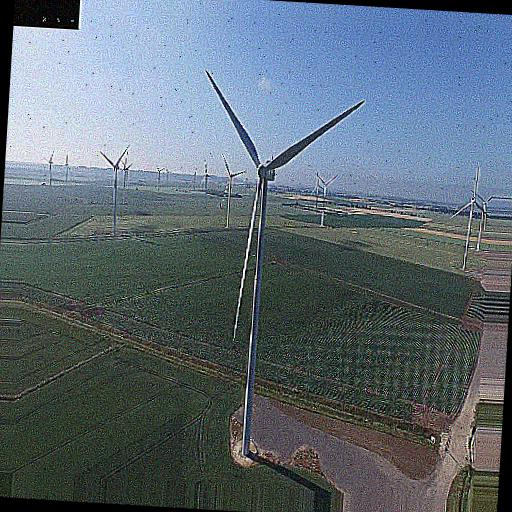wind turbine: (205, 67, 368, 462), (447, 165, 489, 270), (98, 143, 131, 232), (217, 154, 245, 234)
